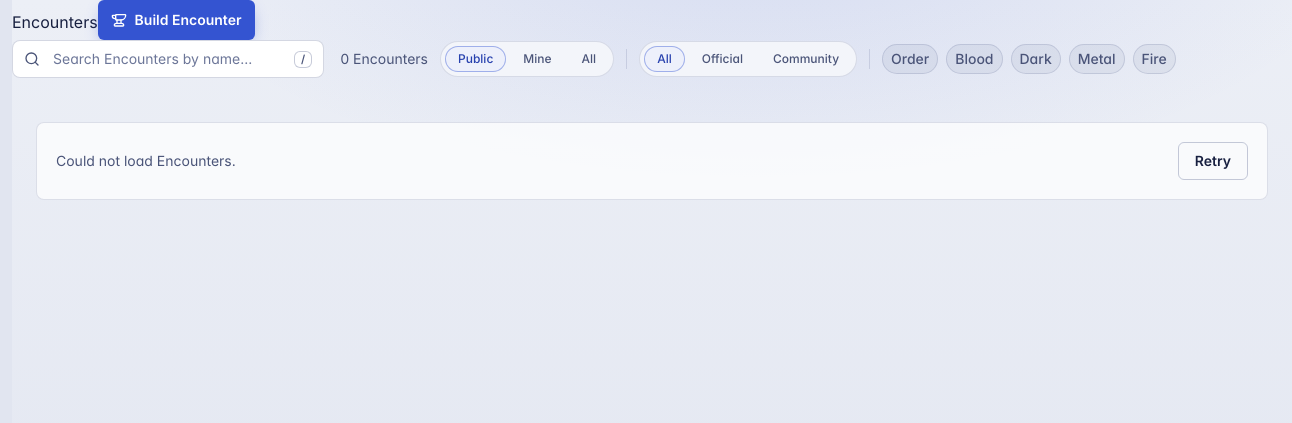
Test: initial errors offer retry and a successful empty response shows the empty state
The width and height of the screenshot is (1292, 423).
Expected: the message "Could not load Encounters. Retry" is shown, left=36, top=122, right=1268, bottom=200
What coordinates should you click on to do the following:
click the button "Retry"
I would click on:
 (1213, 161)
Its box is left=1178, top=142, right=1248, bottom=180.
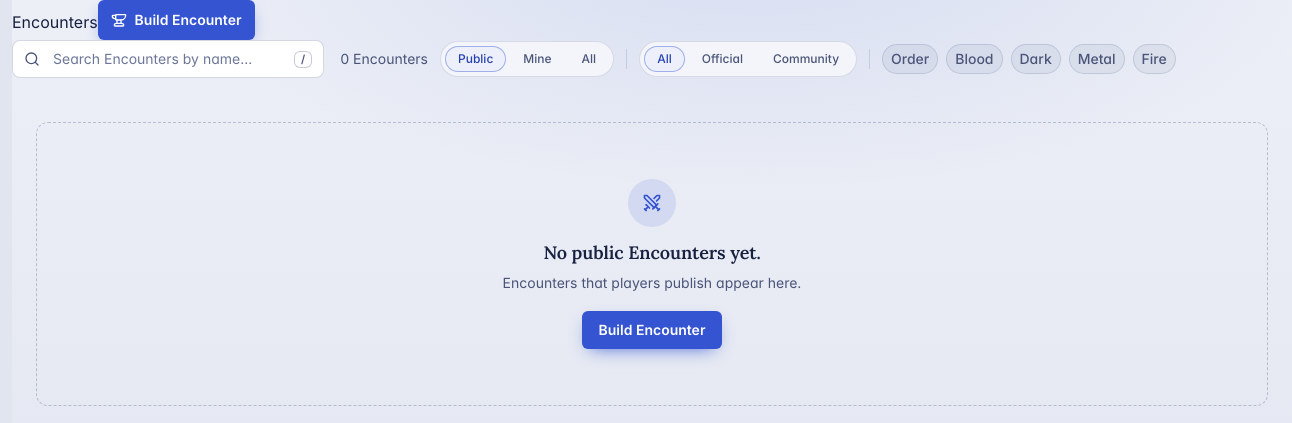
Expected: the text "No public Encounters yet." is shown, left=543, top=241, right=761, bottom=264
